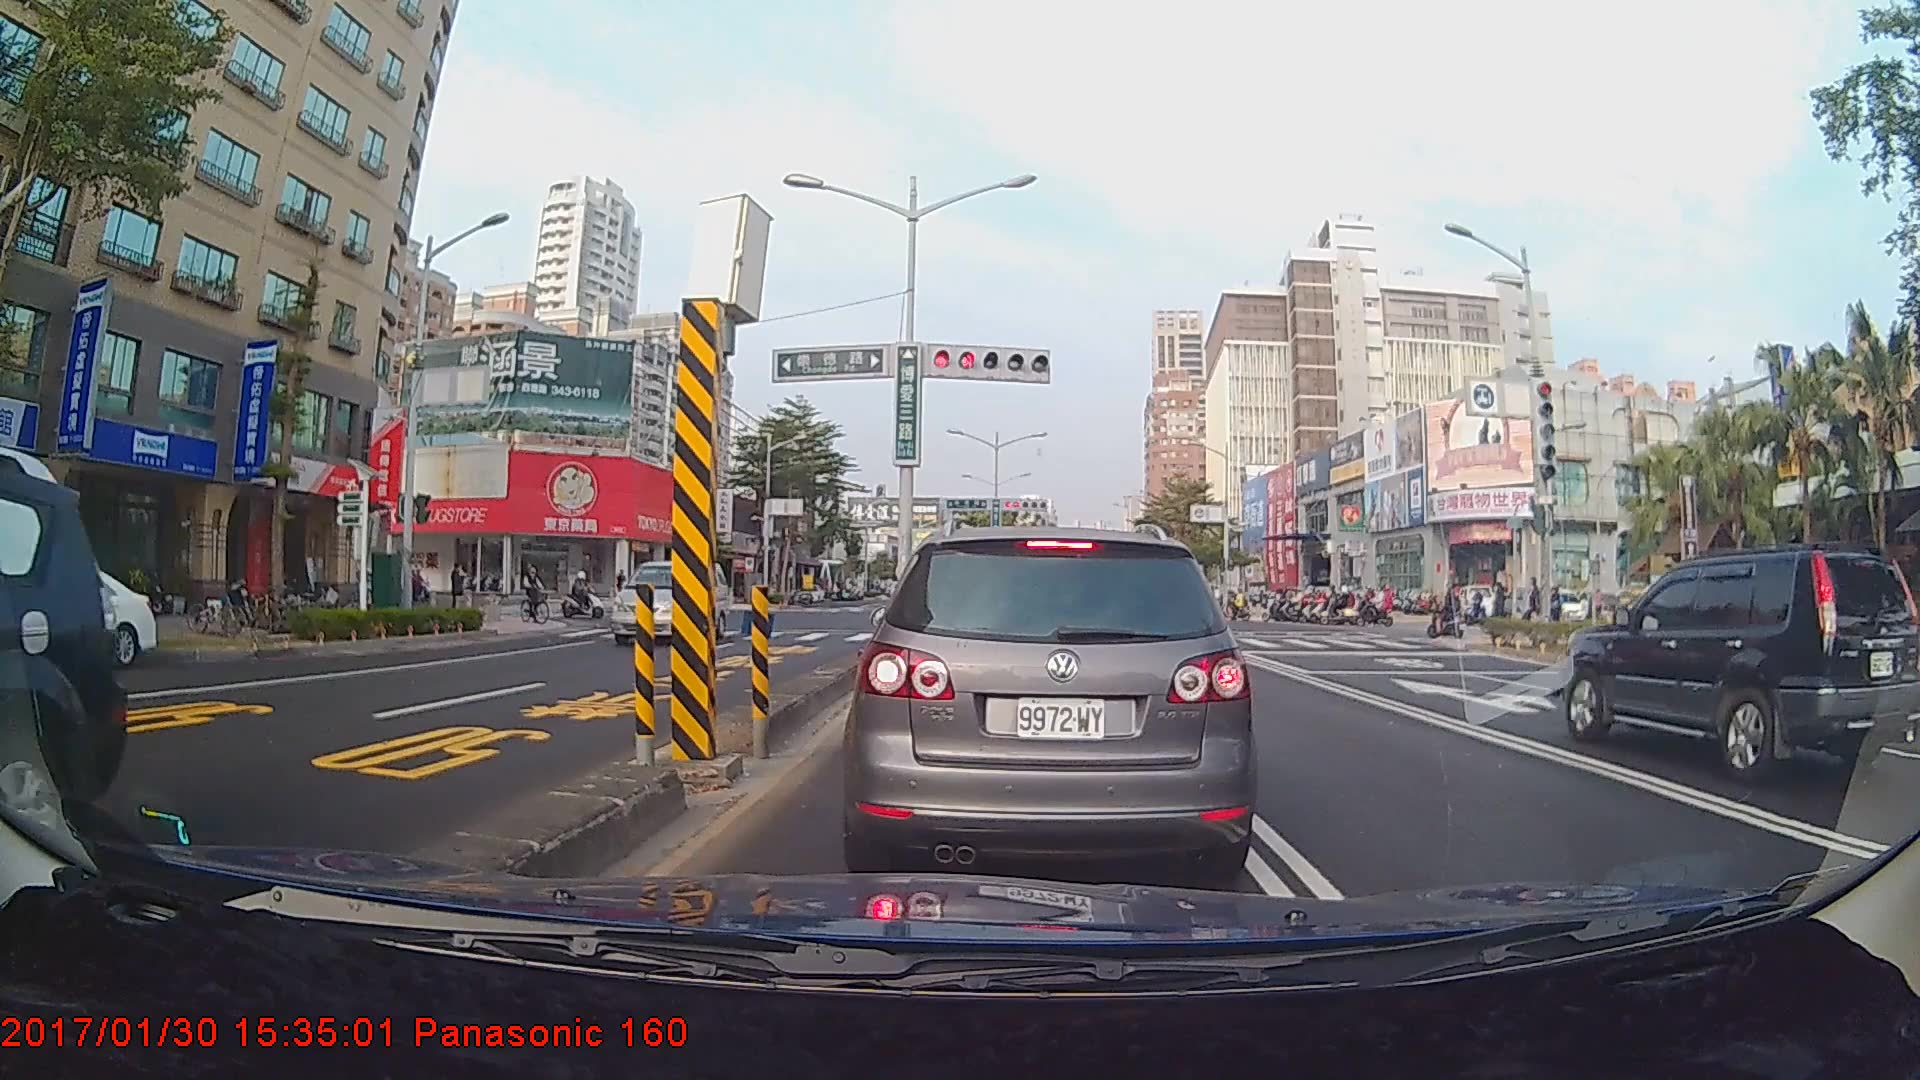pedestrian: (447, 563, 467, 620)
rider: (562, 566, 609, 619), (1421, 581, 1463, 637), (522, 566, 551, 627)
vehicle: (842, 519, 1258, 881), (1560, 550, 1918, 784), (1, 562, 157, 670), (607, 561, 730, 646)
